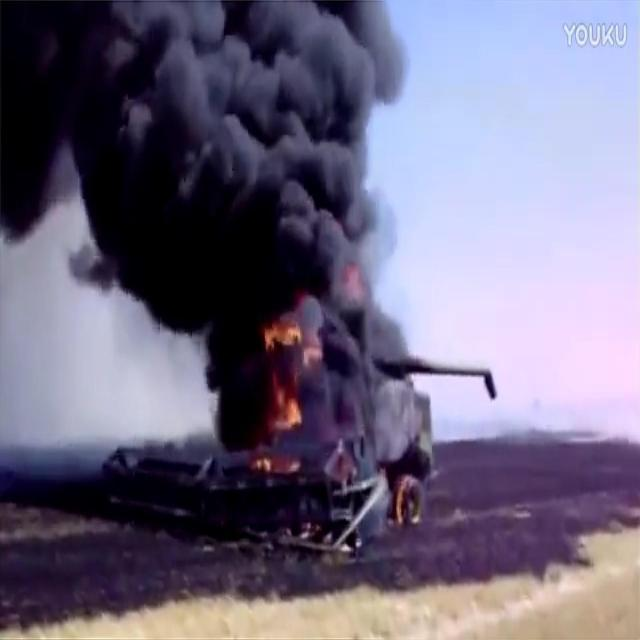Fire: (264, 320, 323, 362), (264, 372, 304, 429), (342, 263, 363, 302), (251, 457, 301, 471)
Smoke: (0, 0, 427, 477)
